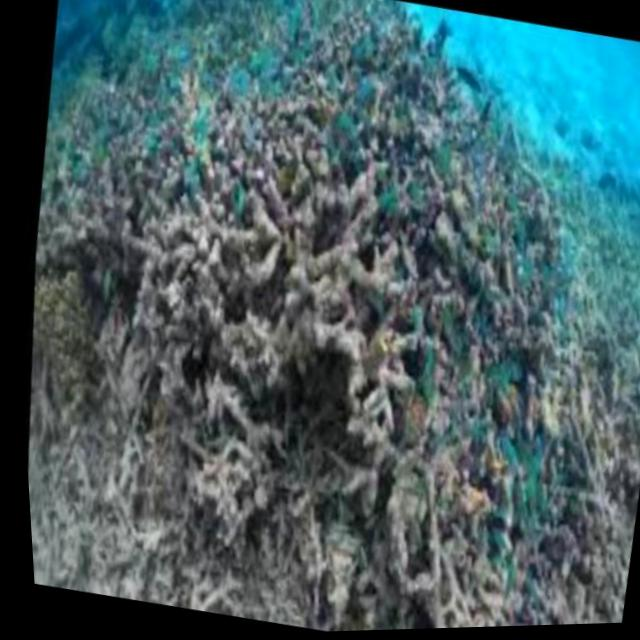Dead Coral: (1, 17, 640, 640), (13, 0, 640, 528)
